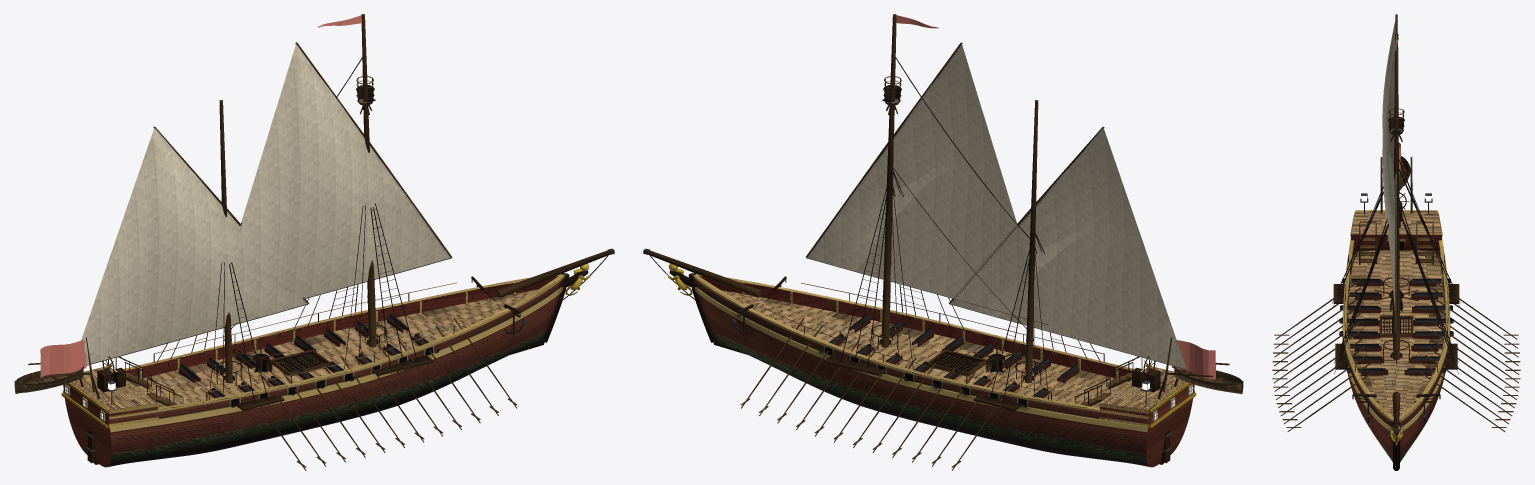
Rendered from galeoth.glb.
3 renders of one model, left to right at view 1: azimuth 30°, elevation 25°; view 2: azimuth 150°, elevation 25°; view 3: azimuth 270°, elevation 25°, orthographic. The views are drawn at different scales.
Parts seen in each view (by area): view 1: LOD0_Body, LOD0_m0_AftSail, LOD0_m1_AftSail, LOD0_Wood, LOD2_Body, LOD2_Wood, LOD1_m0_AftSail, LOD1_m1_AftSail, LOD1_Wood, LOD2_m0_AftSail, LOD0_Flag, LOD2_m1_AftSail (+1 smaller); view 2: LOD2_m0_AftSail, LOD0_Body, LOD0_Wood, LOD2_m1_AftSail, LOD2_Body, LOD2_Wood, LOD0_m0_AftSail, LOD1_m0_AftSail, LOD1_Wood, LOD1_m1_AftSail, LOD1_Body, LOD0_Flag; view 3: LOD0_Wood, LOD2_Body, LOD0_Body, LOD2_Wood, LOD0_m0_AftSail, LOD1_Body, LOD1_Wood, LOD0_m1_AftSail, LOD1_m0_AftSail, LOD0_m0_AftYards, LOD2_m0_AftSail, LOD2_m0_AftYards.
Part boxes in pixels (left/top/right/bottom): LOD0_Body: left=71, top=85, right=589, bottom=467; LOD0_m0_AftSail: left=240, top=44, right=420, bottom=298; LOD0_m1_AftSail: left=81, top=128, right=260, bottom=364; LOD0_Wood: left=14, top=14, right=614, bottom=470; LOD2_Body: left=81, top=276, right=563, bottom=465; LOD2_Wood: left=69, top=15, right=609, bottom=465; LOD1_m0_AftSail: left=244, top=51, right=449, bottom=284; LOD1_m1_AftSail: left=86, top=147, right=306, bottom=363; LOD1_Wood: left=65, top=14, right=611, bottom=466; LOD2_m0_AftSail: left=350, top=192, right=450, bottom=257; LOD0_Flag: left=40, top=15, right=361, bottom=377; LOD2_m1_AftSail: left=92, top=204, right=307, bottom=362; LOD2_m0_AftSail: left=841, top=44, right=1047, bottom=323; LOD0_Body: left=668, top=85, right=1186, bottom=467; LOD0_Wood: left=643, top=14, right=1243, bottom=470; LOD2_m1_AftSail: left=951, top=128, right=1185, bottom=368; LOD2_Body: left=693, top=276, right=1176, bottom=465; LOD2_Wood: left=646, top=30, right=1188, bottom=465; LOD0_m0_AftSail: left=807, top=151, right=1047, bottom=324; LOD1_m0_AftSail: left=829, top=83, right=1047, bottom=323; LOD1_Wood: left=648, top=14, right=1192, bottom=466; LOD1_m1_AftSail: left=1028, top=180, right=1186, bottom=369; LOD1_Body: left=696, top=99, right=1172, bottom=466; LOD0_Flag: left=896, top=15, right=1215, bottom=379; LOD0_Wood: left=1272, top=34, right=1520, bottom=470; LOD2_Body: left=1347, top=217, right=1445, bottom=427; LOD0_Body: left=1332, top=118, right=1460, bottom=461; LOD2_Wood: left=1343, top=51, right=1449, bottom=470; LOD0_m0_AftSail: left=1382, top=34, right=1396, bottom=246; LOD1_Body: left=1344, top=129, right=1448, bottom=461; LOD1_Wood: left=1343, top=38, right=1449, bottom=470; LOD0_m1_AftSail: left=1382, top=16, right=1396, bottom=136; LOD1_m0_AftSail: left=1387, top=46, right=1396, bottom=258; LOD0_m0_AftYards: left=1394, top=32, right=1397, bottom=331; LOD2_m0_AftSail: left=1385, top=35, right=1396, bottom=310; LOD2_m0_AftYards: left=1396, top=32, right=1398, bottom=331.
Size of the model in its own units: 37.39 by 23.43 by 14.75.
5 materials, 3 textured.
